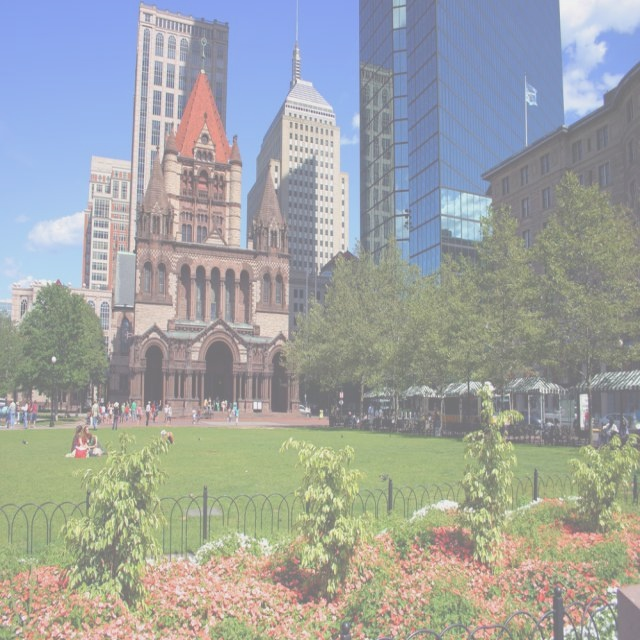pessoa: (330, 403, 396, 431), (82, 425, 109, 458), (596, 417, 620, 447), (410, 410, 440, 432), (71, 423, 91, 455), (540, 414, 554, 444), (619, 416, 630, 448), (110, 401, 120, 432), (91, 397, 100, 430), (26, 396, 34, 429), (572, 416, 581, 444), (9, 397, 16, 429), (211, 398, 227, 412), (3, 395, 10, 427), (22, 399, 29, 429), (227, 401, 237, 421), (145, 400, 152, 427), (154, 398, 162, 421), (553, 418, 561, 440), (14, 399, 20, 425), (32, 399, 38, 425), (166, 402, 173, 424), (132, 397, 138, 422), (107, 403, 114, 424), (135, 403, 143, 421), (150, 398, 156, 422), (120, 401, 126, 424), (234, 406, 240, 424), (101, 402, 106, 423), (203, 396, 210, 411), (304, 401, 312, 414), (196, 404, 201, 424), (242, 398, 248, 414), (85, 400, 92, 413), (106, 400, 111, 418), (98, 396, 101, 423), (164, 402, 168, 420), (288, 397, 292, 415), (192, 404, 196, 420), (44, 397, 48, 410), (64, 403, 68, 416), (125, 399, 130, 409), (128, 397, 132, 408), (59, 398, 62, 410)
